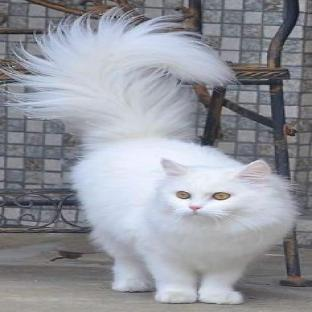Animal: (4, 9, 297, 304)
